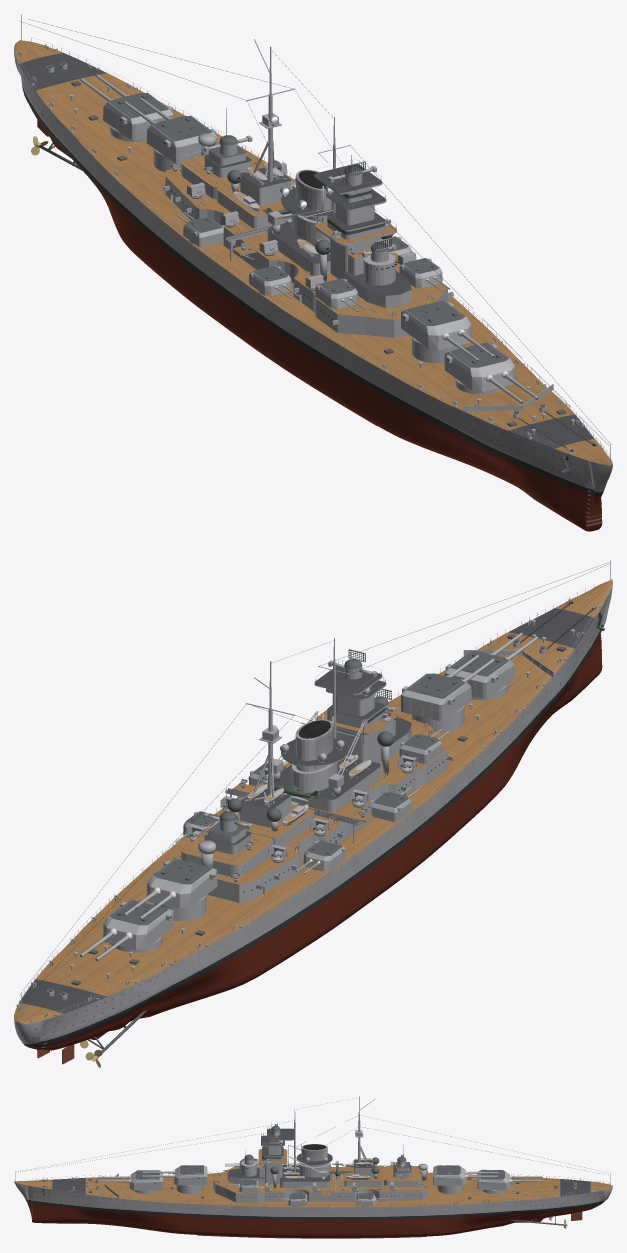
Rendered from bismarck.glb.
3 renders of one model, top to bottom at view 1: azimuth 30°, elevation 25°; view 2: azimuth 150°, elevation 25°; view 3: azimuth 270°, elevation 25°, orthographic. The views are drawn at different scales.
Parts seen in each view (by area): view 1: bis_body, tB_yaw_geo, tA_yaw_geo, tC_yaw_geo, tD_yaw_geo, s5_yaw_geo, bis_antenna_rig, s3_yaw_geo, s4_yaw_geo, s1_yaw_geo; view 2: bis_body, tB_yaw_geo, tC_yaw_geo, tD_yaw_geo, tA_yaw_geo, s1_yaw_geo, bis_antenna_rig, s3_yaw_geo, s5_yaw_geo; view 3: bis_body, tB_yaw_geo, tC_yaw_geo, tA_yaw_geo, tD_yaw_geo, bis_antenna_rig, s4_yaw_geo, s2_yaw_geo, s0_yaw_geo.
Boxes of the visible parts, left/top/right/bottom form: bis_body: left=14, top=14, right=612, bottom=531; tB_yaw_geo: left=401, top=300, right=471, bottom=350; tA_yaw_geo: left=444, top=342, right=515, bottom=392; tC_yaw_geo: left=146, top=116, right=217, bottom=163; tD_yaw_geo: left=103, top=93, right=173, bottom=140; s5_yaw_geo: left=315, top=278, right=358, bottom=308; bis_antenna_rig: left=20, top=19, right=609, bottom=445; s3_yaw_geo: left=249, top=265, right=291, bottom=296; s4_yaw_geo: left=399, top=258, right=442, bottom=288; s1_yaw_geo: left=183, top=217, right=224, bottom=247; bis_body: left=14, top=560, right=612, bottom=1052; tB_yaw_geo: left=401, top=673, right=471, bottom=721; tC_yaw_geo: left=146, top=859, right=217, bottom=908; tD_yaw_geo: left=103, top=900, right=173, bottom=949; tA_yaw_geo: left=444, top=651, right=515, bottom=699; s1_yaw_geo: left=303, top=840, right=346, bottom=870; bis_antenna_rig: left=19, top=562, right=609, bottom=997; s3_yaw_geo: left=371, top=792, right=412, bottom=822; s5_yaw_geo: left=399, top=734, right=442, bottom=763; bis_body: left=14, top=1096, right=612, bottom=1238; tB_yaw_geo: left=174, top=1165, right=207, bottom=1185; tC_yaw_geo: left=433, top=1165, right=466, bottom=1185; tA_yaw_geo: left=129, top=1170, right=163, bottom=1190; tD_yaw_geo: left=477, top=1169, right=510, bottom=1190; bis_antenna_rig: left=18, top=1098, right=608, bottom=1175; s4_yaw_geo: left=239, top=1179, right=258, bottom=1192; s2_yaw_geo: left=288, top=1192, right=307, bottom=1206; s0_yaw_geo: left=356, top=1192, right=375, bottom=1206.
Bounding box in the file's own units: 36.6 × 58.26 × 251.
Materials: 20 (4 with a texture image).
